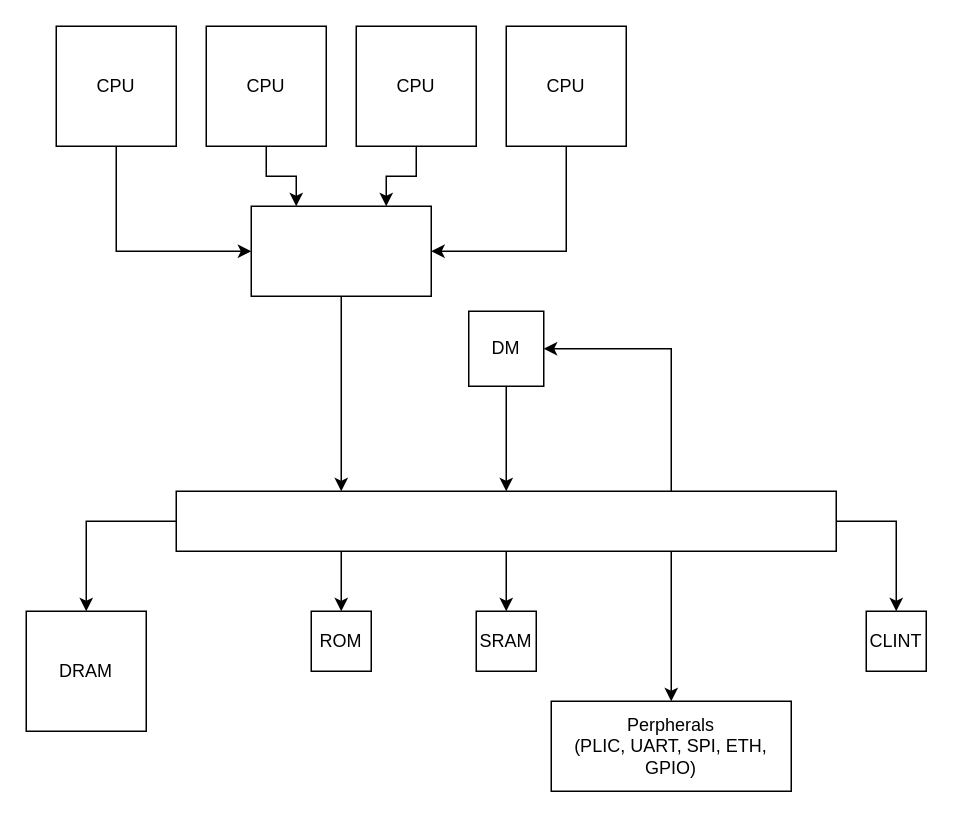
This 953x818 diagram has some shape labels left out. The shapes that lost their labels are listed below. From the top down, each one's centre as x and y in pixels, then its label:
At (x=340, y=250): "CCU".
At (x=505, y=520): "XBAR".
